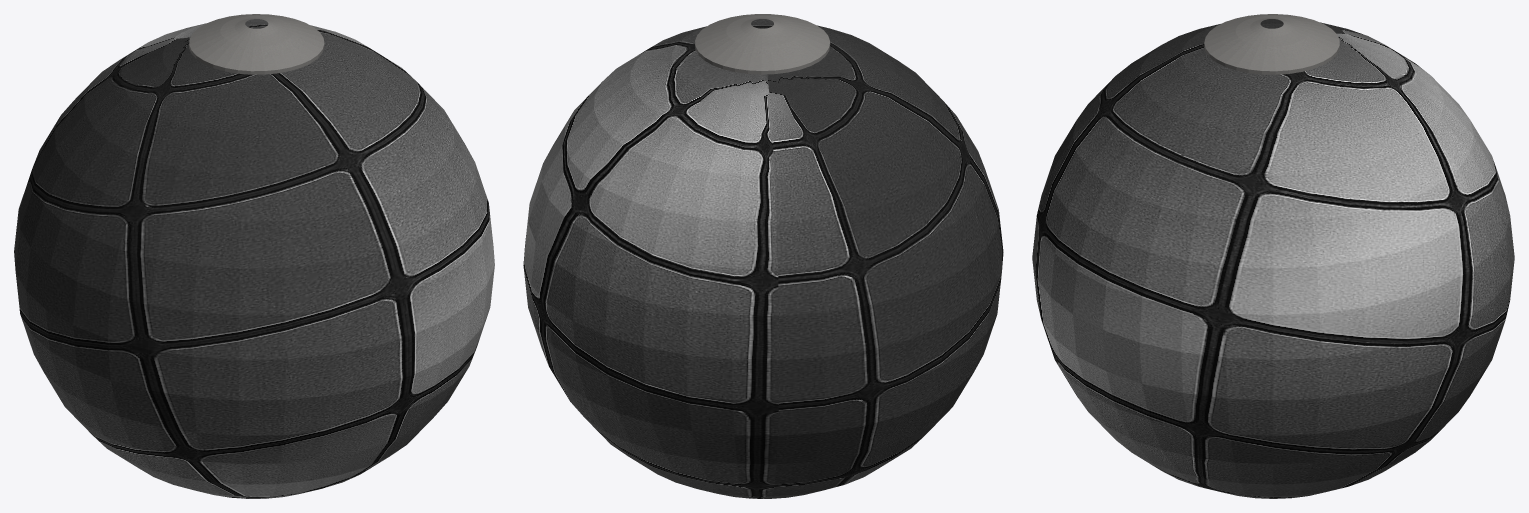
File: DiscoBall.obj
3 renders of one model, left to right at view 1: azimuth 30°, elevation 25°; view 2: azimuth 150°, elevation 25°; view 3: azimuth 270°, elevation 25°, orthographic.
Parts seen in each view (by area): view 1: Sphere.005, Grid.002; view 2: Sphere.005, Grid.002; view 3: Sphere.005, Grid.002.
Part boxes in pixels (bbox=[...]): Sphere.005: bbox=[14, 19, 494, 498]; Grid.002: bbox=[189, 14, 324, 74]; Sphere.005: bbox=[523, 19, 1003, 498]; Grid.002: bbox=[695, 14, 830, 74]; Sphere.005: bbox=[1032, 19, 1514, 498]; Grid.002: bbox=[1204, 14, 1339, 74].
Bounding box in the file's own units: 2 × 2.07 × 2.
Materials: 2 (2 with a texture image).
